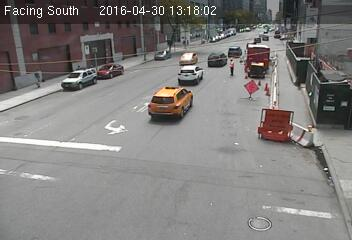neg: (265, 40, 298, 84), (142, 108, 172, 148), (229, 117, 257, 155)
pos: (28, 66, 45, 89), (224, 54, 239, 75)
